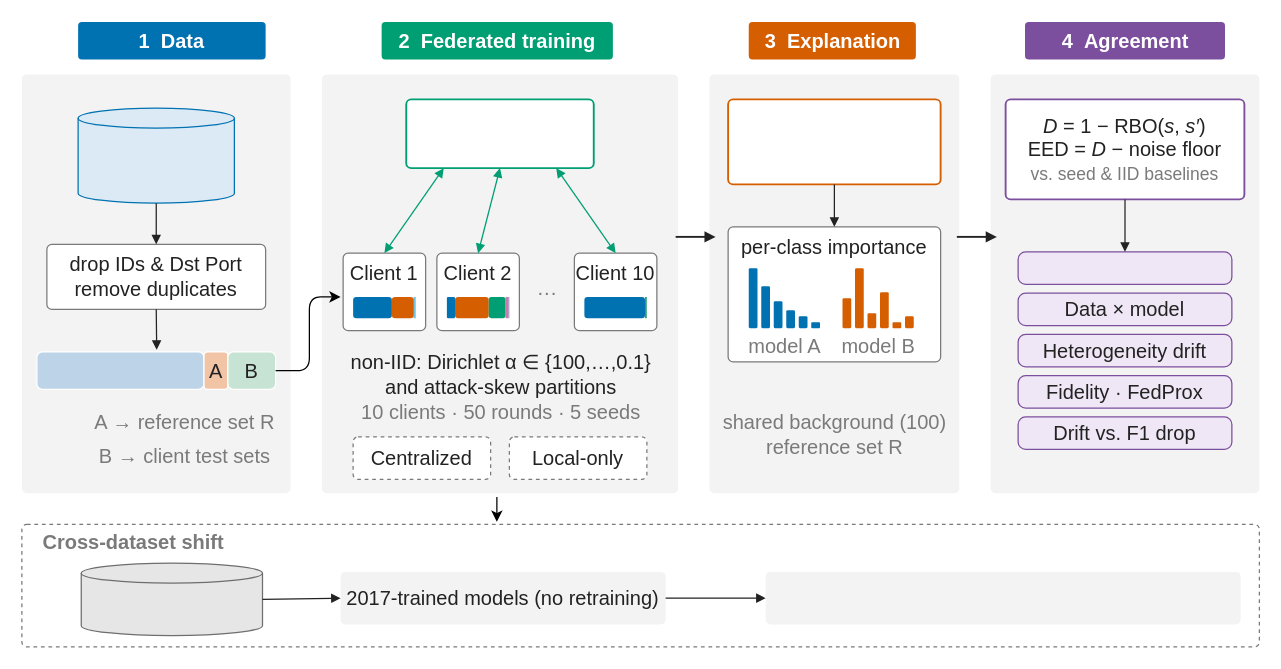
The diagram is 1281 pixels wide and 669 high, and some of its shapes have lost their labels. Each missing label, with the centre of its shape:
CICIDS2017 (improved): the point at 155,155
Class-mix effect: the point at 1124,267
CSE-CIC-IDS2018: the point at 171,599
Server FedAvg / FedProx: the point at 499,133
SHAP values expected gradients true-class logit: the point at 834,141
Train 70%: the point at 120,370
ΔF1 · explanation shift · ECN-flag ablation: the point at 1002,597
